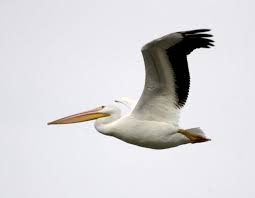pelican: (48, 29, 215, 153)
